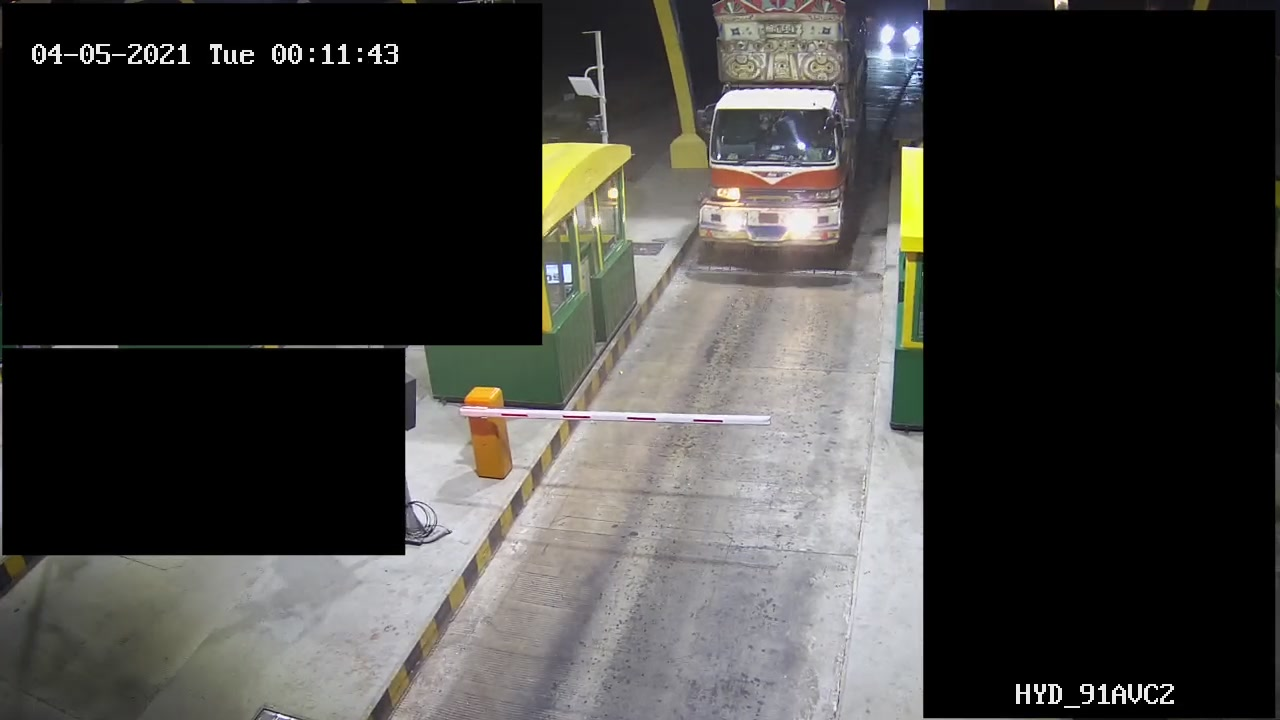F5: (688, 1, 876, 275)
